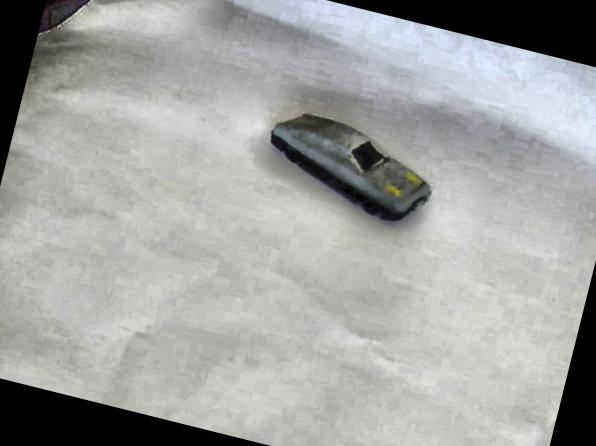normal_car: (254, 103, 444, 230)
